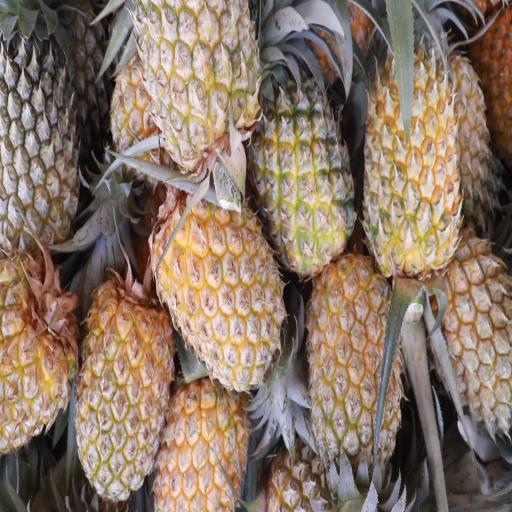------------------------------: (248, 37, 362, 283), (131, 0, 269, 184)
Pineapple - v8 v1: (150, 164, 293, 394), (361, 6, 468, 299), (304, 245, 406, 512), (72, 272, 175, 512), (0, 246, 87, 465), (435, 220, 512, 453), (155, 374, 254, 512)
